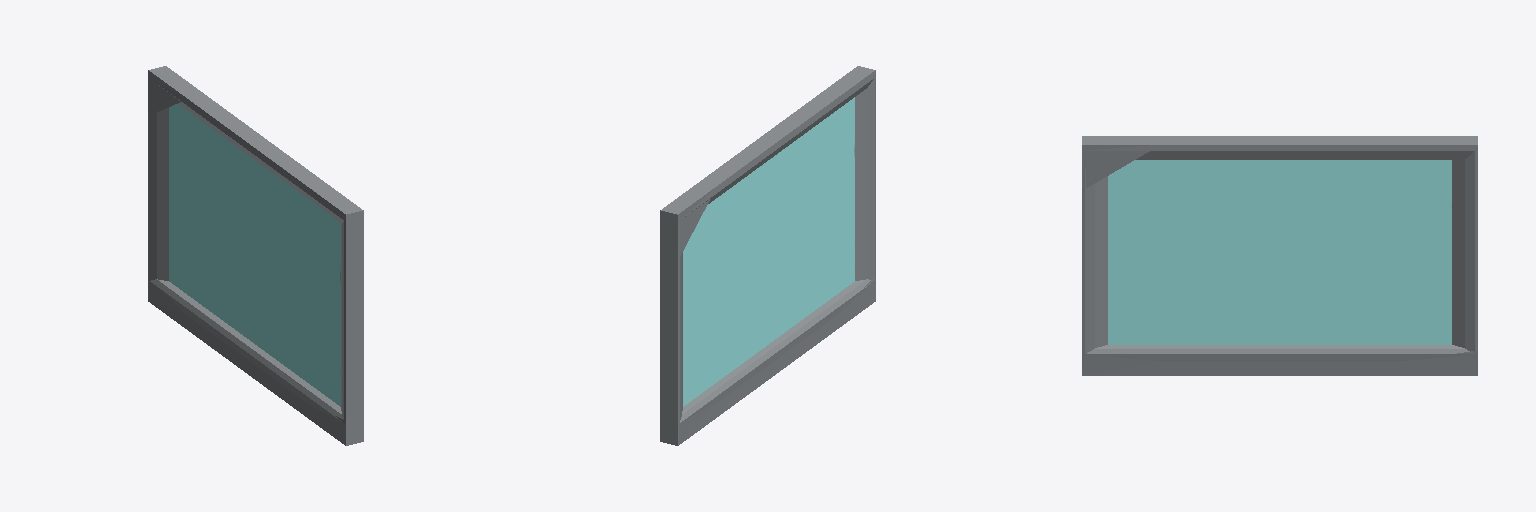
3 views of the same model, side by side, from view 1: azimuth 30°, elevation 25°; view 2: azimuth 150°, elevation 25°; view 3: azimuth 270°, elevation 25° (orthographic).
Visible parts, largest first — view 1: pCube1; view 2: pCube1; view 3: pCube1.
Boxes of the visible parts, box(x1,y1,x2,y2) form: pCube1: box(148, 66, 363, 445); pCube1: box(660, 66, 875, 445); pCube1: box(1082, 136, 1477, 375).
Bounding box in the file's own units: 0.2985 × 3.64 × 5.63.
1 materials, 1 textured.